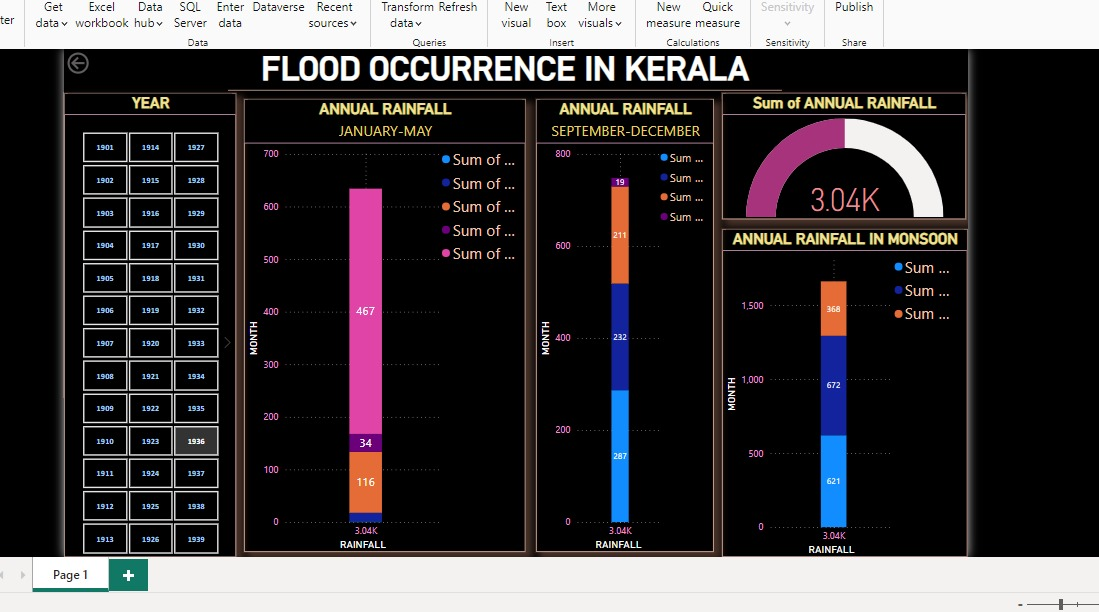

Layout of this report page (visuals, bound fields, positions):
{"tool":"powerbi","page":{"name":"Page 1","canvas":[1280,720],"ordinal":0},"visuals":[{"type":"textbox","title":"FLOOD OCCURRENCE IN KERALA","box":[232.3,0,785.4,61.8],"z":0},{"type":"gauge","fields":{"Y":["Sum(KERALA_FLOOD.ANNUAL RAINFALL)"]},"box":[932.4,61.8,345.9,178.8],"z":1000},{"type":"columnChart","title":"ANNUAL RAINFALL IN MONSOON","fields":{"Category":["KERALA_FLOOD.ANNUAL RAINFALL"],"Y":["Sum(KERALA_FLOOD.JUN)","Sum(KERALA_FLOOD.JUL)","Sum(KERALA_FLOOD.AUG)"]},"box":[932.4,255.7,347.6,464.5],"z":2000},{"type":"slicer","title":"YEAR","fields":{"Values":["KERALA_FLOOD.YEAR"]},"box":[0,62.4,243.8,657.6],"z":3000},{"type":"actionButton","box":[0,0,100,40],"z":4000},{"type":"columnChart","title":"ANNUAL RAINFALL","fields":{"Category":["KERALA_FLOOD.ANNUAL RAINFALL"],"Y":["Sum(KERALA_FLOOD.SEP)","Sum(KERALA_FLOOD.OCT)","Sum(KERALA_FLOOD.NOV)","Sum(KERALA_FLOOD.DEC)"]},"box":[668.4,70.2,252.3,641.7],"z":5000},{"type":"columnChart","title":"ANNUAL RAINFALL","fields":{"Category":["KERALA_FLOOD.ANNUAL RAINFALL"],"Y":["Sum(KERALA_FLOOD.JAN)","Sum(KERALA_FLOOD.FEB)","Sum(KERALA_FLOOD.MAR)","Sum(KERALA_FLOOD.APR)","Sum(KERALA_FLOOD.MAY)"]},"box":[255.7,70.2,399.4,641.7],"z":5001}]}

Visuals, with their boxes on the page's 1280x720 design canvas (x1, y1, x2, y2). These are canvas units, not pixel positions in the 1099x612 screenshot, which may show the page scaled, cropped or inside an application window:
"FLOOD OCCURRENCE IN KERALA" textbox: x1=232 y1=0 x2=1018 y2=62
gauge - Sum(KERALA_FLOOD.ANNUAL RAINFALL): x1=932 y1=62 x2=1278 y2=241
"ANNUAL RAINFALL IN MONSOON" columnChart: x1=932 y1=256 x2=1280 y2=720
"YEAR" slicer: x1=0 y1=62 x2=244 y2=720
actionButton: x1=0 y1=0 x2=100 y2=40
"ANNUAL RAINFALL" columnChart: x1=668 y1=70 x2=921 y2=712
"ANNUAL RAINFALL" columnChart: x1=256 y1=70 x2=655 y2=712
